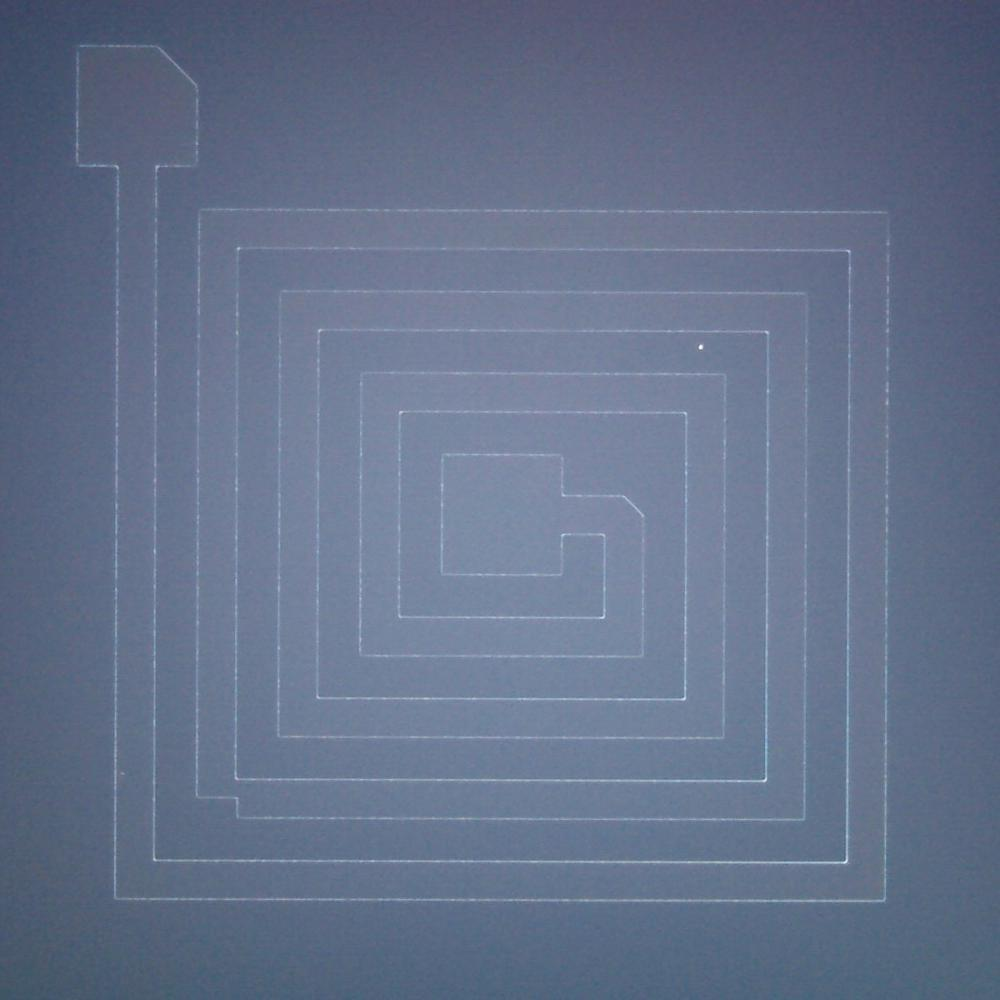dot: (685, 333, 720, 360)
edge circuit: (150, 34, 214, 96), (185, 787, 252, 827), (612, 482, 656, 524)
